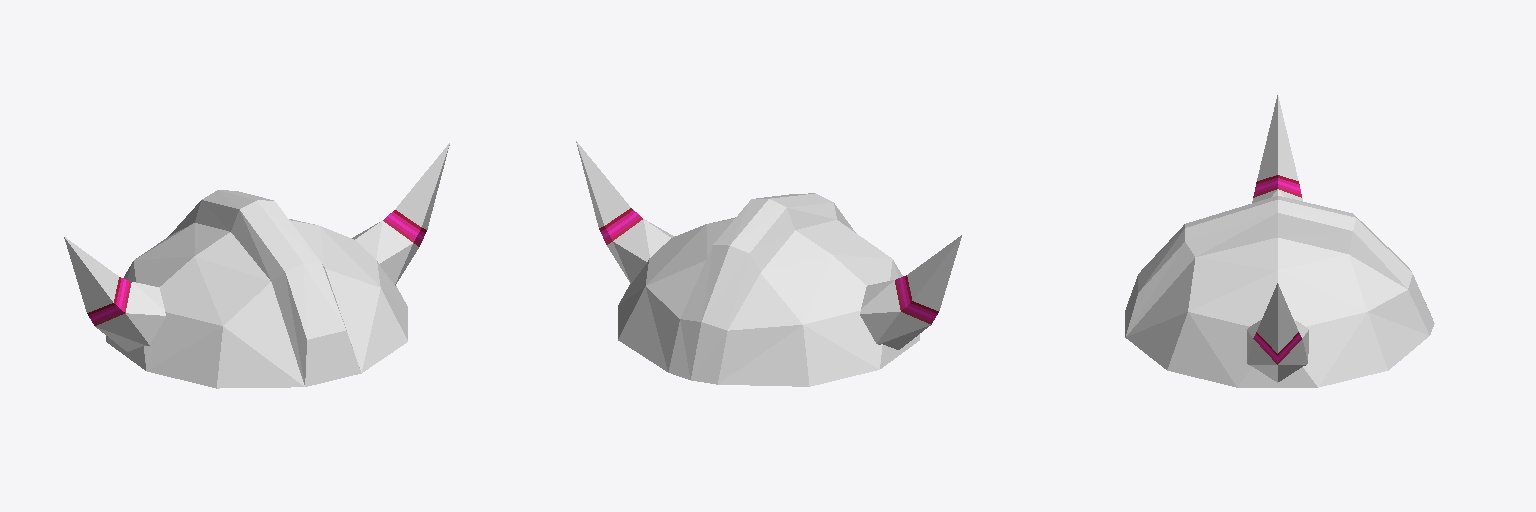
3 renders of one model, left to right at view 1: azimuth 30°, elevation 25°; view 2: azimuth 150°, elevation 25°; view 3: azimuth 270°, elevation 25°, orthographic.
Visible parts, largest first — view 1: polygon0, polygon1; view 2: polygon0, polygon1; view 3: polygon0, polygon1.
Part boxes in pixels (x1,y1,x2,y2): polygon0: (64,143,449,388); polygon1: (87,210,426,325); polygon0: (576,141,961,386); polygon1: (599,208,938,324); polygon0: (1125,95,1434,387); polygon1: (1253,175,1301,364).
Bounding box in the file's own units: 11.62 × 3.89 × 8.05.
2 materials, 1 textured.